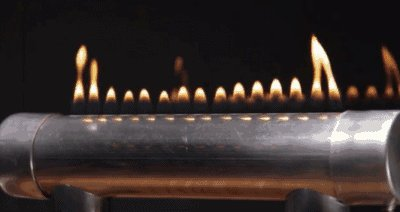fire: (306, 34, 344, 107), (71, 44, 89, 105), (88, 58, 102, 111), (268, 73, 285, 107), (227, 76, 247, 103), (288, 73, 304, 104), (174, 82, 191, 110), (252, 75, 266, 107), (102, 83, 118, 109), (157, 84, 173, 110), (213, 81, 228, 107), (193, 83, 208, 108), (121, 85, 135, 108), (140, 85, 152, 109)
